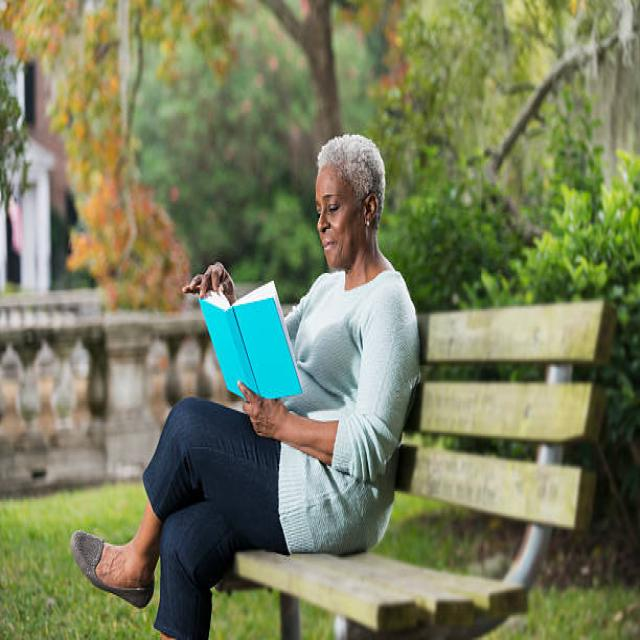sit: (100, 126, 428, 606)
